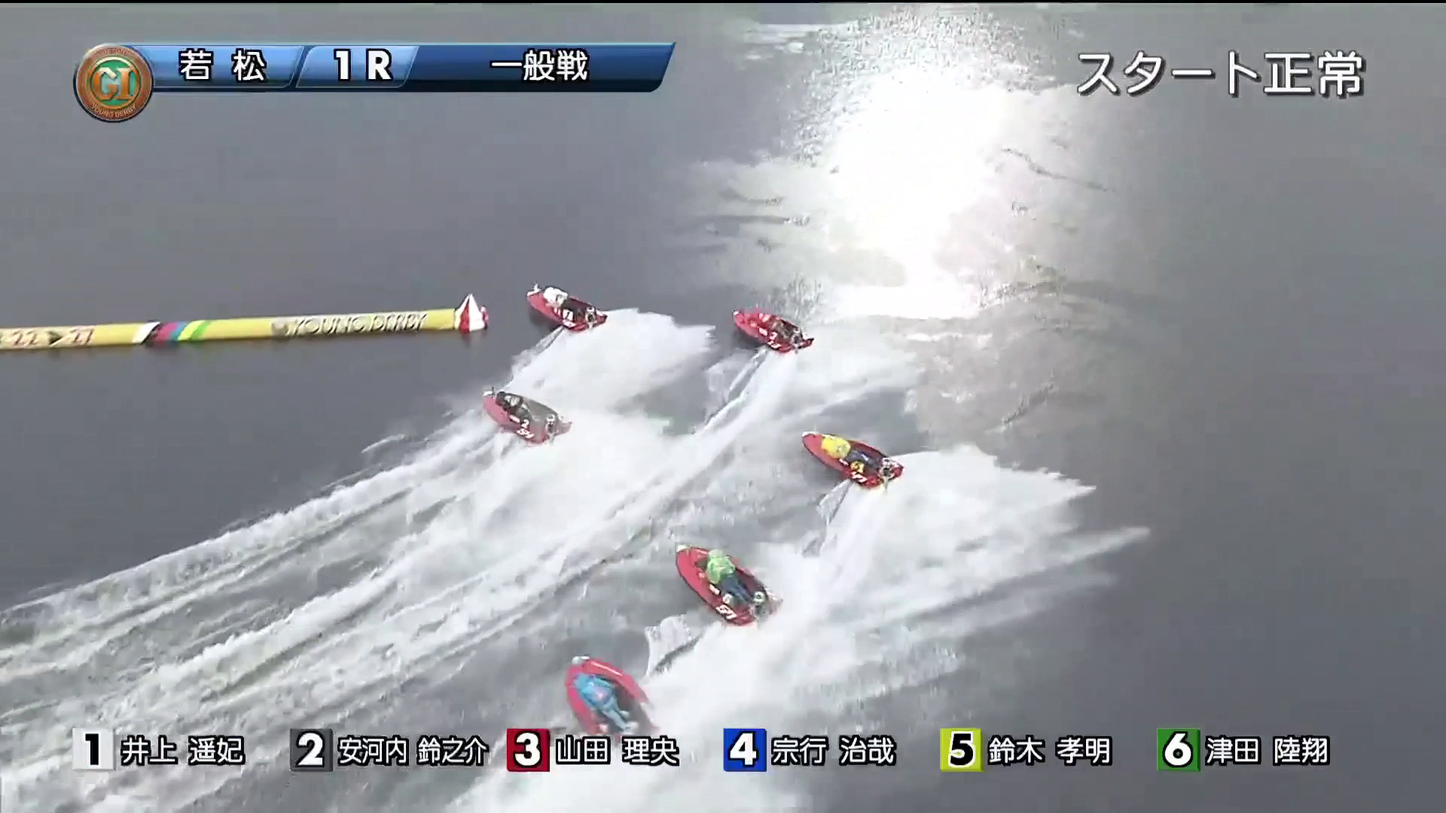１号艇: (516, 284, 586, 337)
２号艇: (457, 377, 585, 437)
３号艇: (721, 298, 819, 345)
４号艇: (688, 535, 822, 601)
５号艇: (552, 670, 675, 725)
６号艇: (799, 419, 898, 481)
